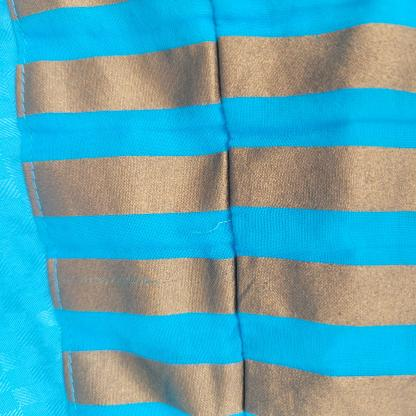spot: (68, 273, 176, 287), (256, 279, 276, 299), (334, 308, 348, 316), (313, 36, 323, 40)
